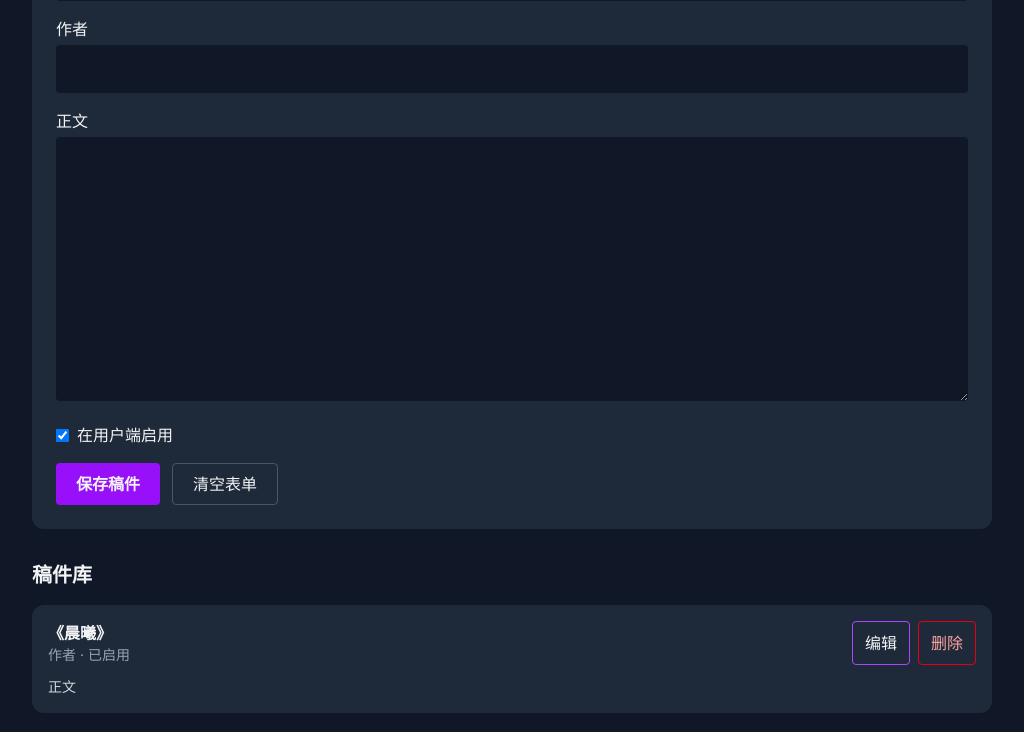
加载稿件并阻止删除最后一篇启用内容
The image size is (1024, 732).
(page scrolled)
Expected: the heading "《晨曦》" is shown, 48,623 -> 112,643
Click the button "删除" at x=947, y=643, box 918,621 -> 976,665
(page scrolled)
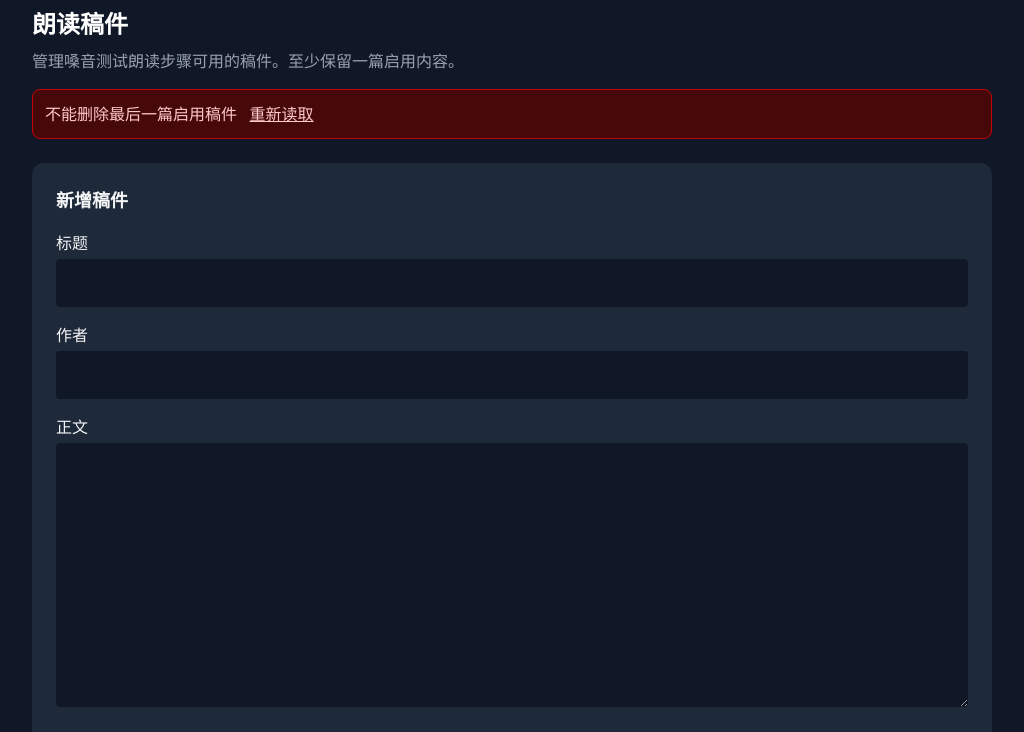
Now the message shows "不能删除最后一篇启用稿件", box 45,104 -> 237,124
